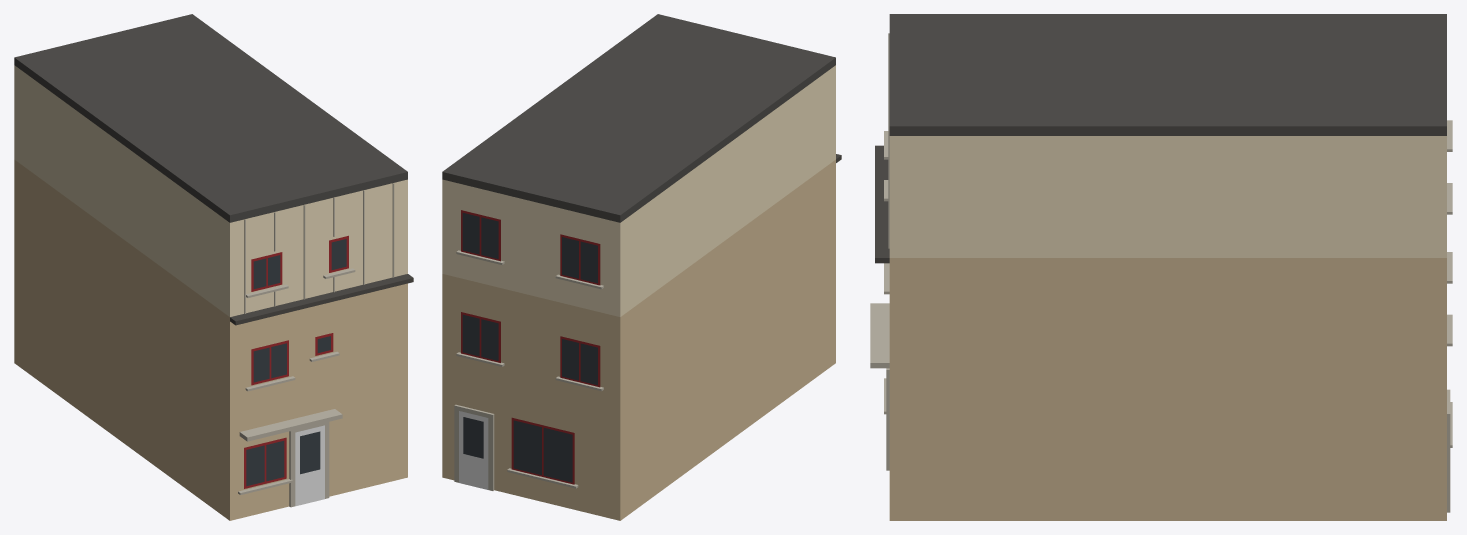
The model's file is nw-ma-clad-top__buff__3__flat__long__solid__f0d1.glb.
3 views of the same model, side by side, from view 1: azimuth 30°, elevation 25°; view 2: azimuth 150°, elevation 25°; view 3: azimuth 270°, elevation 25° (orthographic). The views are drawn at different scales.
Visible parts, largest first — view 1: nw-ma-clad-top__buff__3__flat__long__solid__f0d1; view 2: nw-ma-clad-top__buff__3__flat__long__solid__f0d1; view 3: nw-ma-clad-top__buff__3__flat__long__solid__f0d1.
Boxes of the visible parts, left/top/right/bottom form: nw-ma-clad-top__buff__3__flat__long__solid__f0d1: left=14, top=14, right=413, bottom=520; nw-ma-clad-top__buff__3__flat__long__solid__f0d1: left=442, top=14, right=841, bottom=520; nw-ma-clad-top__buff__3__flat__long__solid__f0d1: left=870, top=14, right=1452, bottom=520.
Size of the model in its own units: 5.43 by 8.9 by 11.9.
